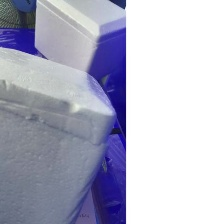foam_box: (0, 41, 119, 224), (29, 0, 125, 83)
